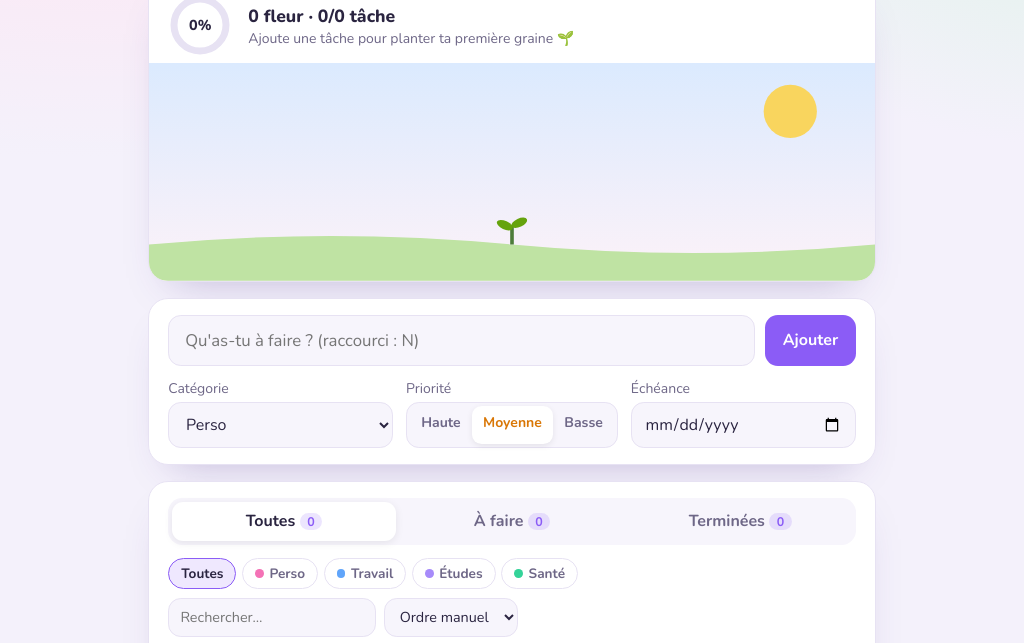
Scenario: Bloom app › deletes a task and can undo
Type "À supprimer" into the field named "Nouvelle tâche" at (462, 340), box [168,315,756,366]
Then press Enter
(page scrolled)
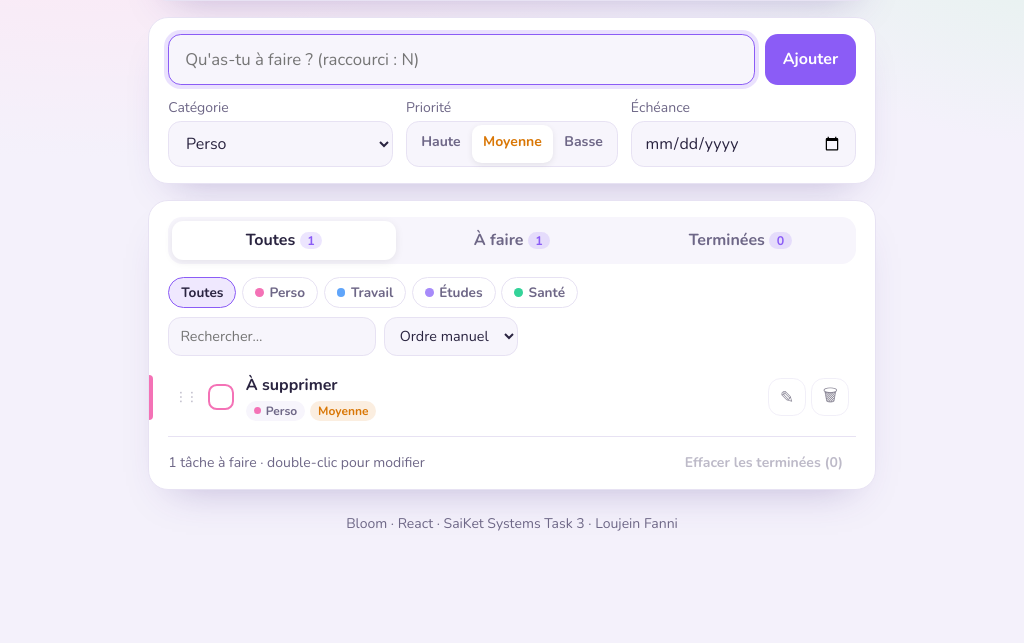
Click the button named "Supprimer « À supprimer »" at (830, 397), box [811,378,849,416]
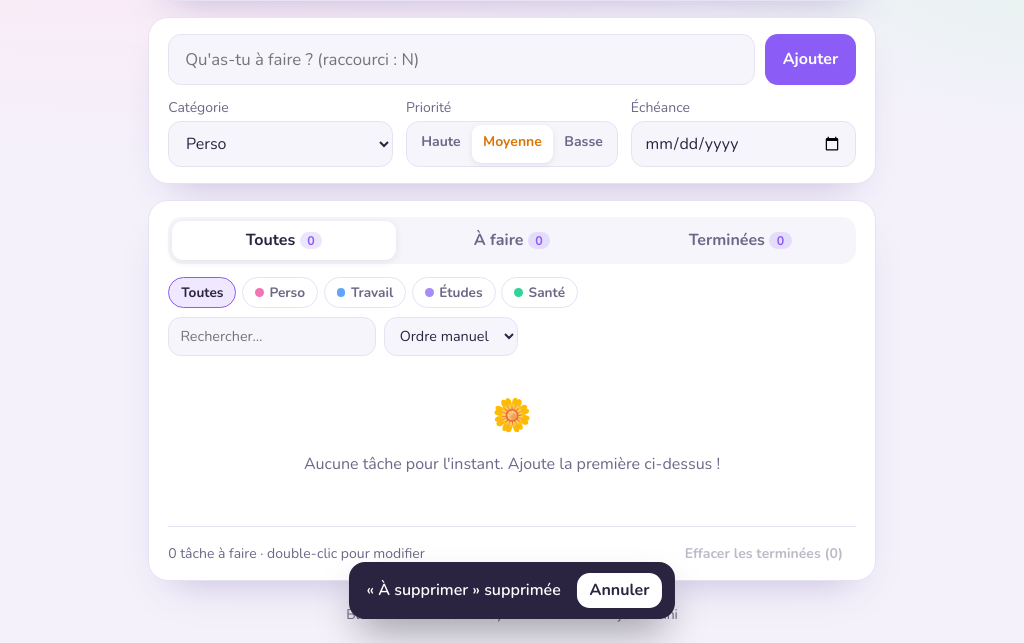
Click the button "Annuler" at (620, 590), box [577,573,662,608]
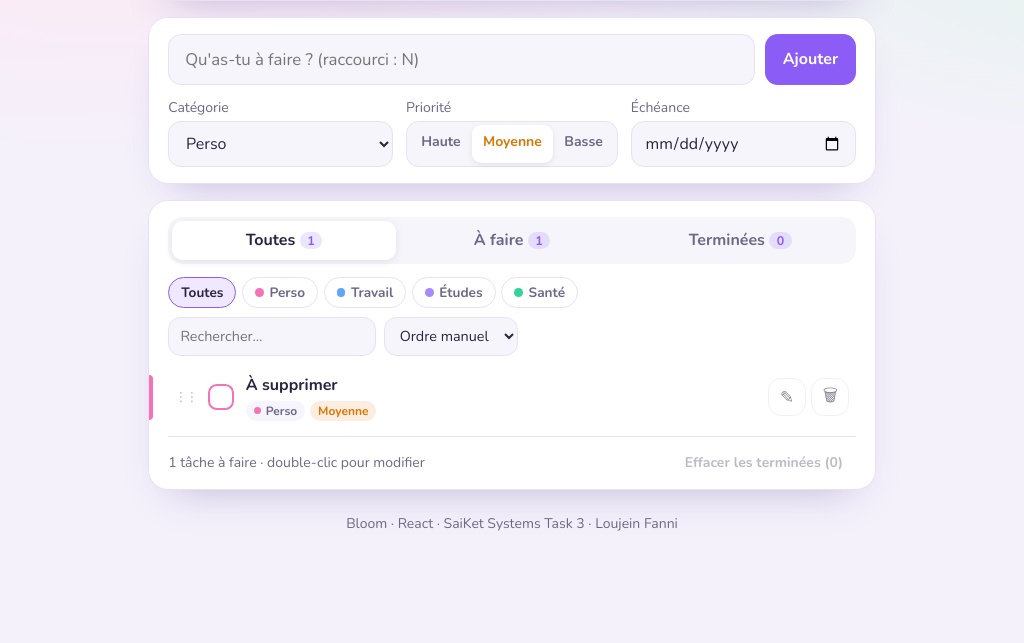
Check: the checkbox named "À supprimer" is shown, box [208,384,234,410]
